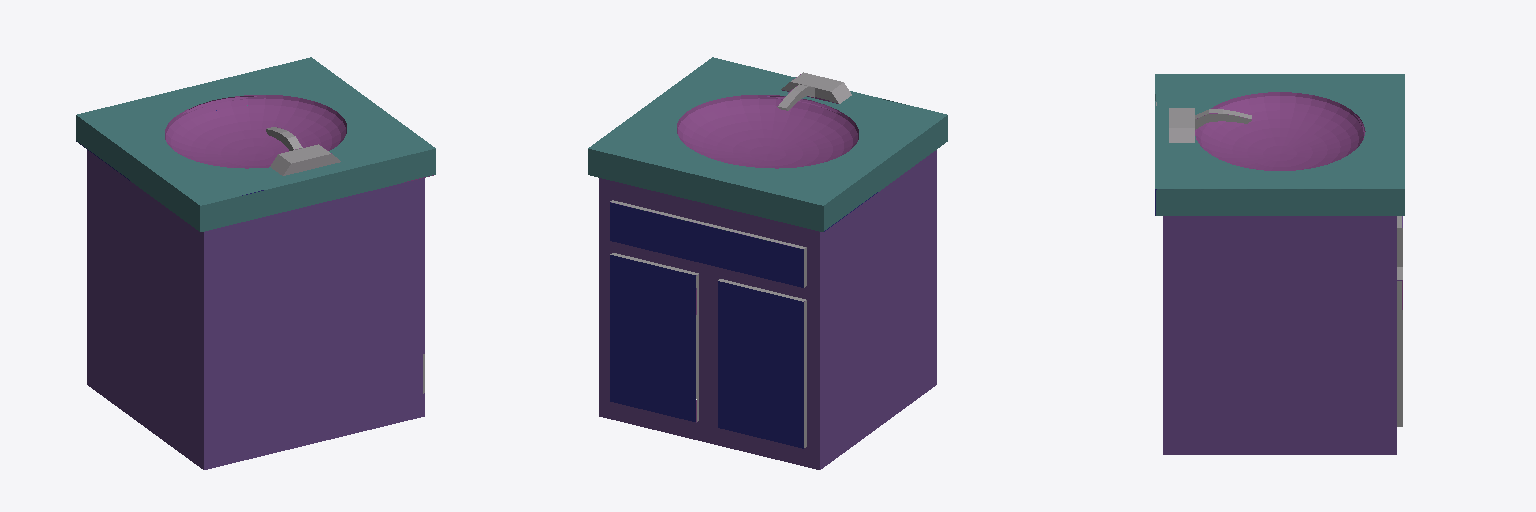
3 views of the same model, side by side, from view 1: azimuth 30°, elevation 25°; view 2: azimuth 150°, elevation 25°; view 3: azimuth 270°, elevation 25° (orthographic).
Parts seen in each view (by area): view 1: Cube.006_Cube.015; view 2: Cube.006_Cube.015; view 3: Cube.006_Cube.015.
Boxes of the visible parts, box(x1,y1,x2,y2) form: Cube.006_Cube.015: box(76, 57, 435, 469); Cube.006_Cube.015: box(588, 57, 947, 469); Cube.006_Cube.015: box(1155, 74, 1404, 454).
Bounding box in the file's own units: 9.04 × 10.6 × 8.28.
1 materials, 1 textured.